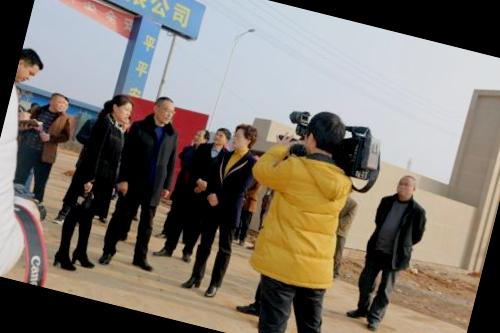no_helmet: (300, 105, 349, 160), (14, 42, 49, 90), (102, 89, 138, 128), (148, 90, 181, 127), (228, 119, 260, 156), (390, 170, 422, 205), (45, 86, 69, 116), (188, 121, 213, 149), (210, 122, 232, 150)
